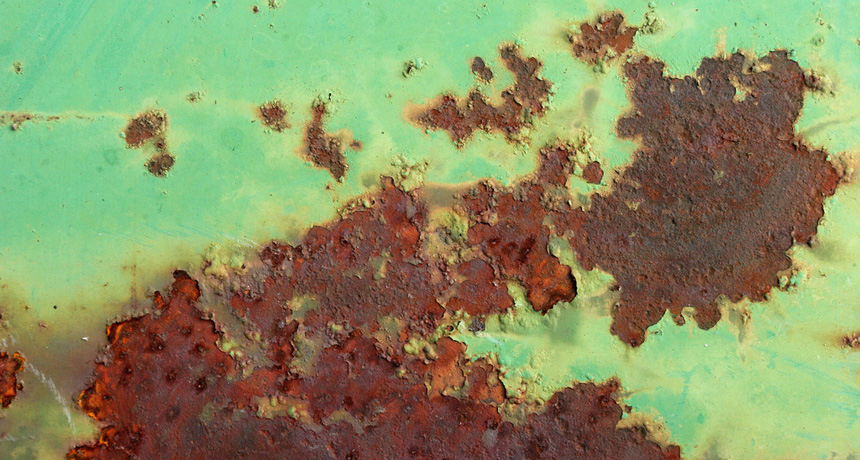rust: (75, 268, 664, 460), (597, 47, 846, 338)
